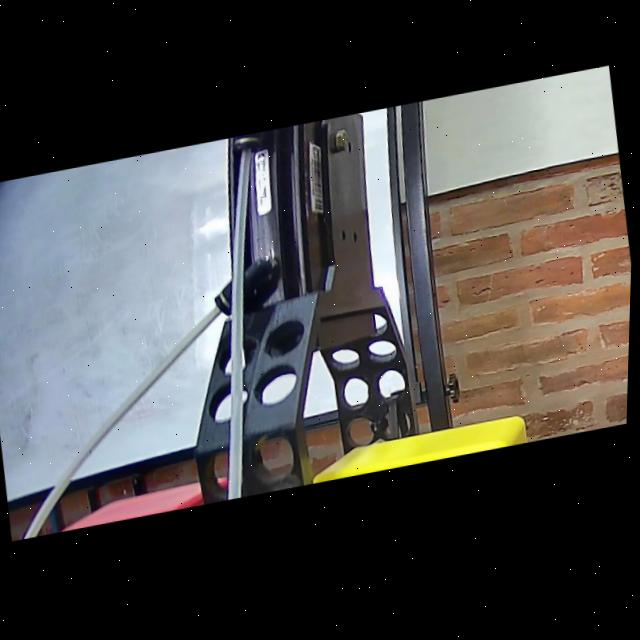redBox: (53, 473, 248, 534)
yellowBox: (310, 416, 536, 487)
